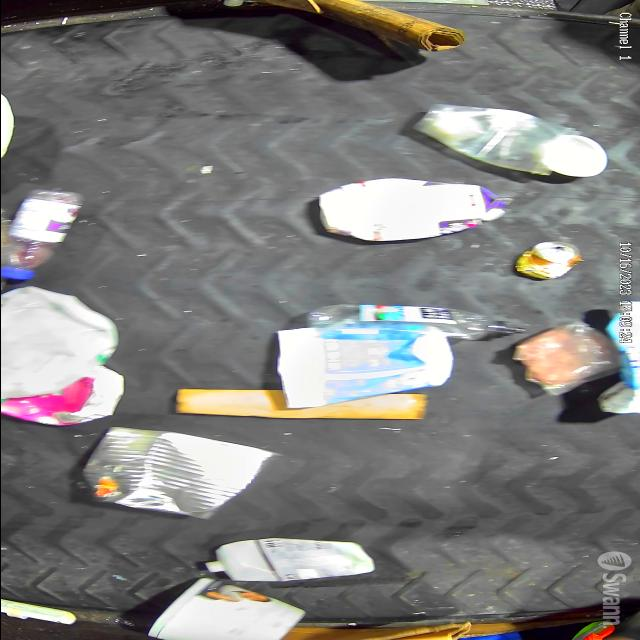can: (79, 429, 277, 518), (508, 239, 582, 280)
milk_jug: (0, 288, 114, 400)
plastic_bottle: (0, 191, 78, 279)
